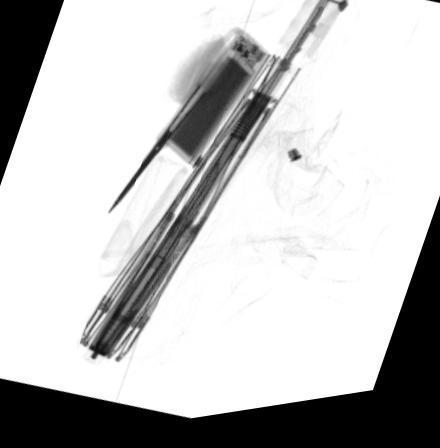Powerbank: (154, 38, 275, 178)
Scissors: (103, 31, 245, 221)
